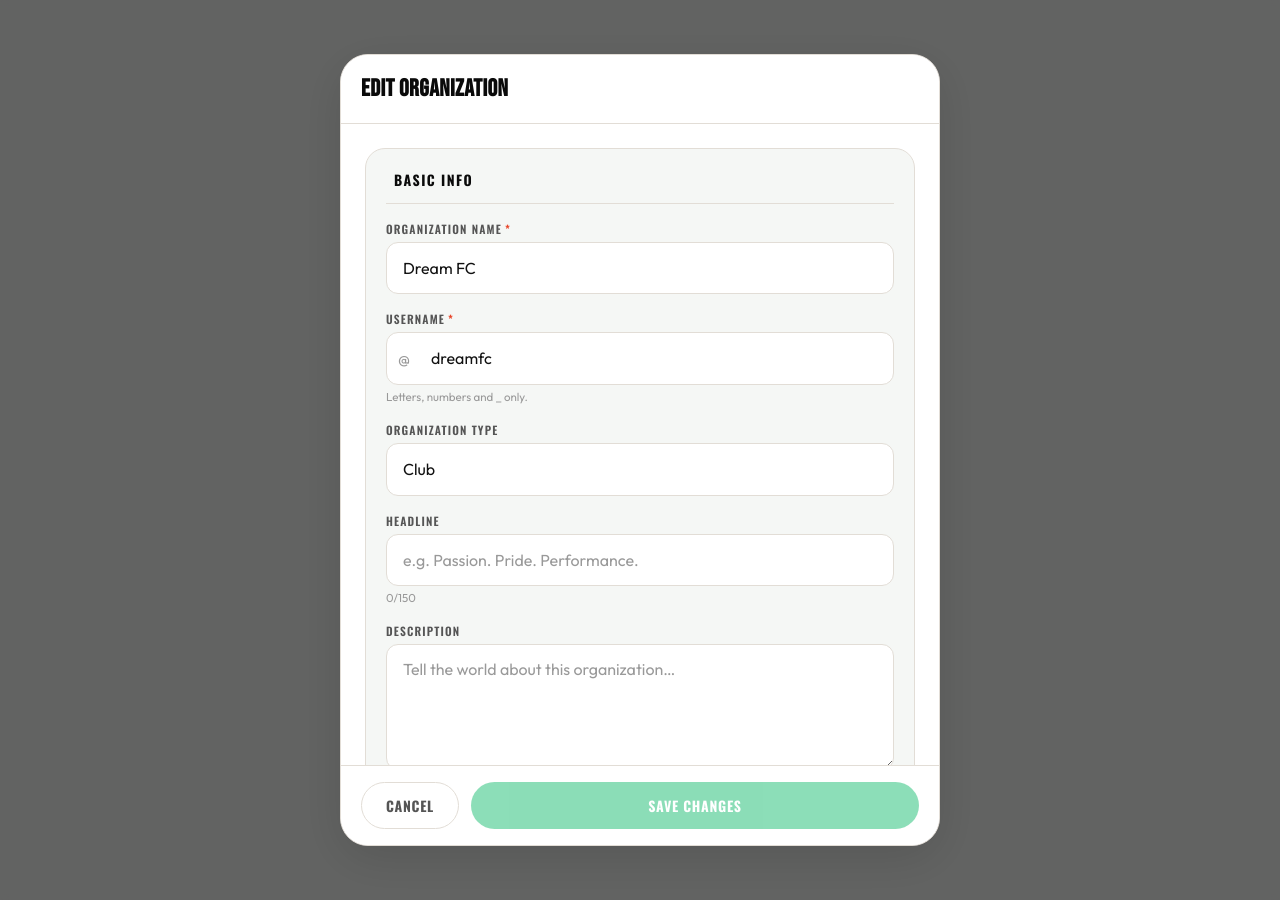
Test: EditOrgProfileModal type › offers Club, Team and Academy, and no School
Click the dropdown named "Organization type" at (419, 469), box [386,443,894,496]
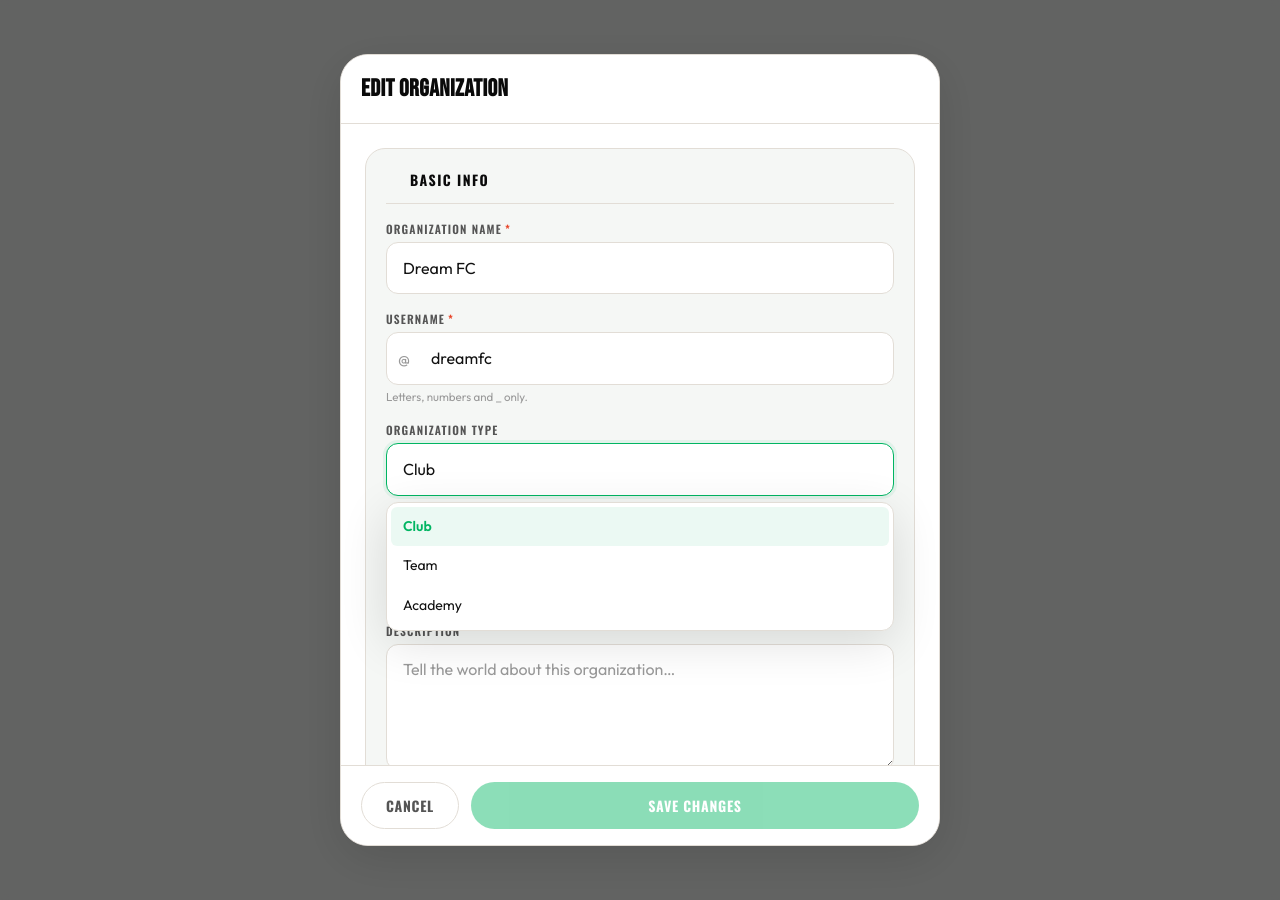
Expected: the options read "Club", "Team", "Academy", in this order, [391,507,889,546]; [403,556,438,574]; [403,596,462,614]
